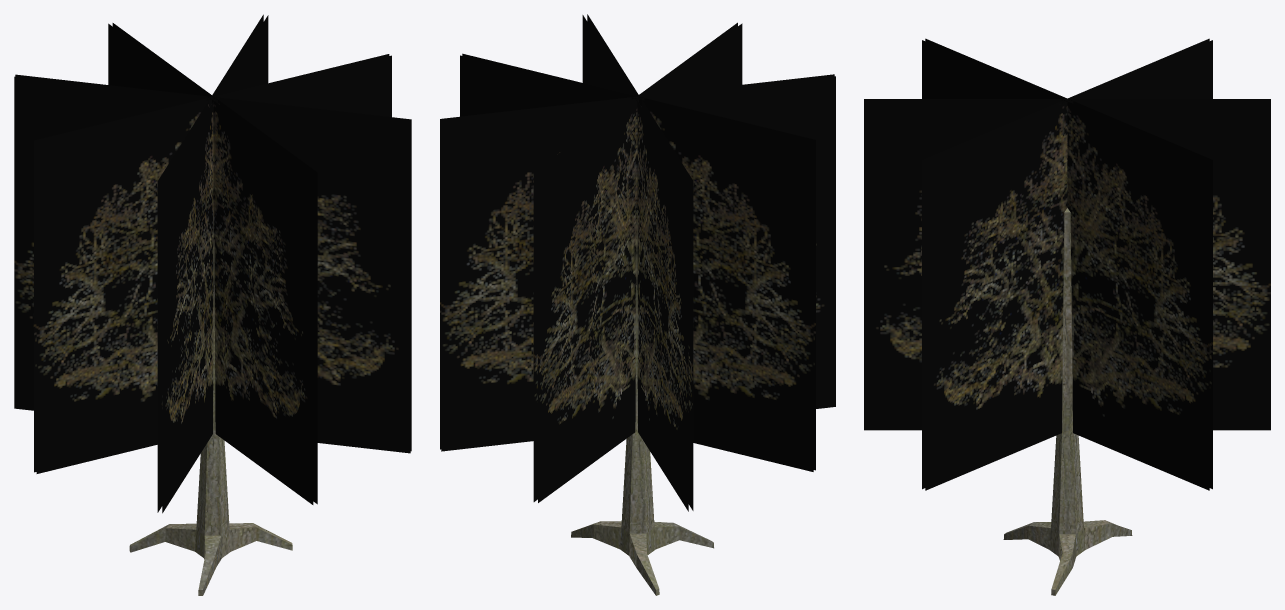
File: tree05_winter.gltf
3 renders of one model, left to right at view 1: azimuth 30°, elevation 25°; view 2: azimuth 150°, elevation 25°; view 3: azimuth 270°, elevation 25°, orthographic.
Visible parts, largest first — view 1: tree05_top, tree05; view 2: tree05_top, tree05; view 3: tree05_top, tree05.
Boxes of the visible parts, <box> form: tree05_top: <box>14,14,411,513</box>; tree05: <box>129,211,292,595</box>; tree05_top: <box>440,14,835,511</box>; tree05: <box>571,210,713,595</box>; tree05_top: <box>864,38,1270,490</box>; tree05: <box>1003,208,1132,595</box>.
Size of the model in its own units: 3.36 by 4.19 by 3.36.
Materials: 1 (1 with a texture image).
